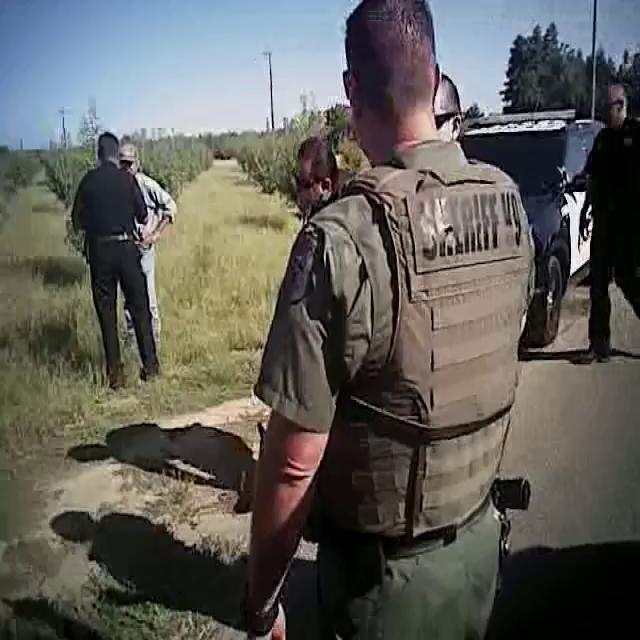gun: (480, 451, 534, 580)
